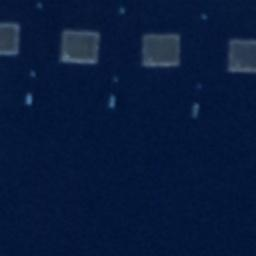square_cover: (136, 28, 187, 71), (53, 27, 107, 67), (223, 29, 256, 77), (1, 16, 24, 60)
